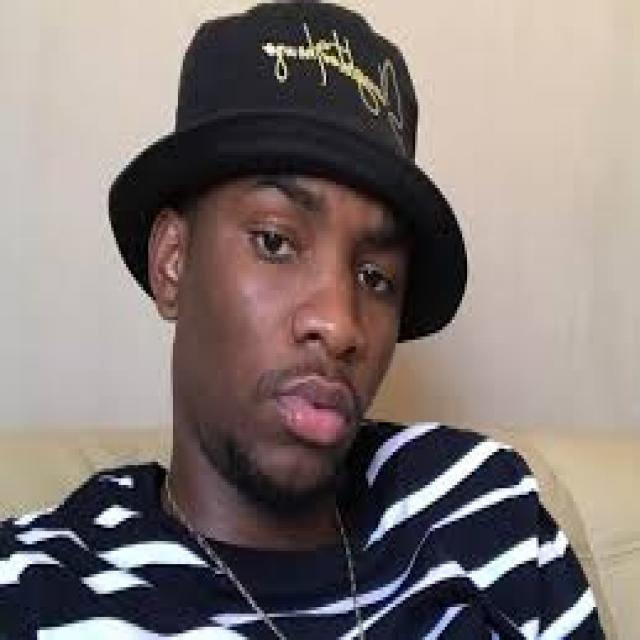hat: (102, 0, 515, 318)
